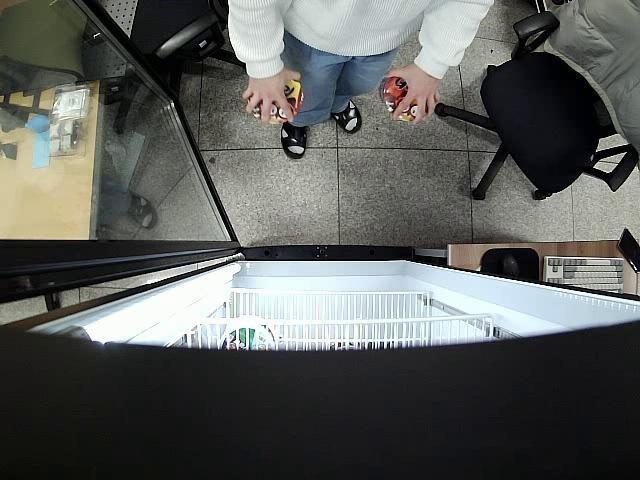05_nuguri_L: (248, 80, 306, 125), (378, 76, 429, 122)
